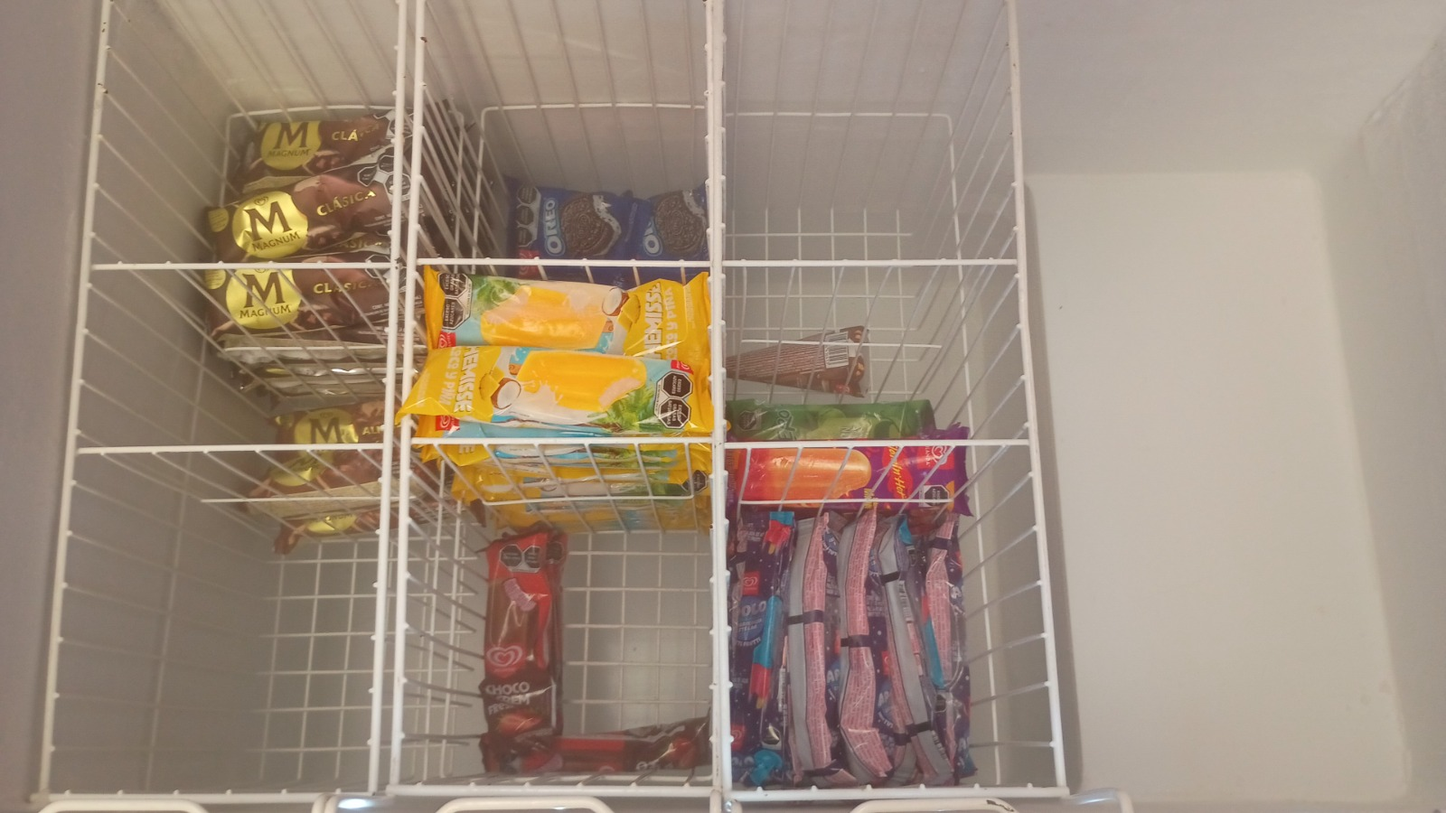rejilla: (42, 5, 110, 790), (1010, 2, 1064, 786), (370, 1, 406, 791), (716, 4, 730, 795), (708, 3, 721, 784), (405, 2, 423, 399), (392, 419, 409, 784), (724, 440, 1033, 447), (75, 445, 384, 452), (54, 795, 316, 802), (392, 788, 708, 793), (723, 260, 1021, 265), (415, 260, 713, 265), (410, 438, 716, 442), (89, 264, 391, 268)
